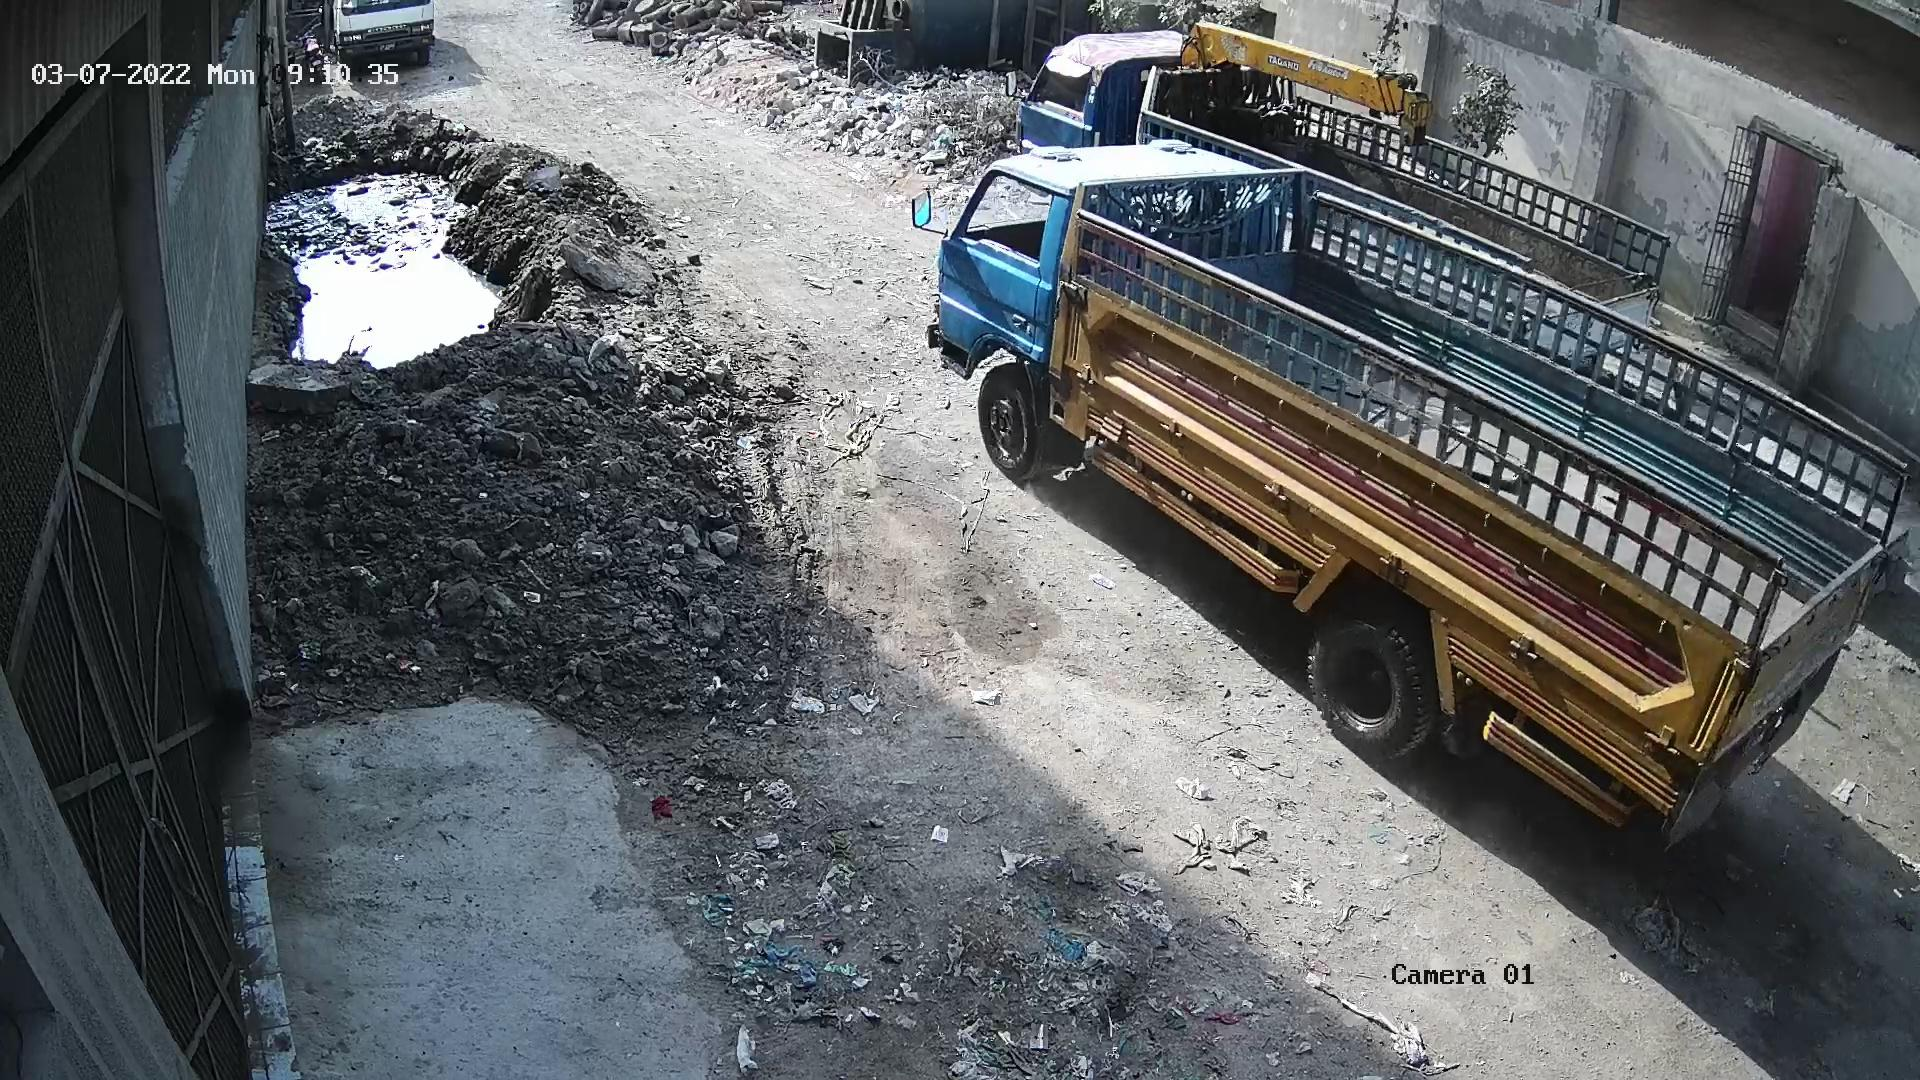bike: (298, 25, 326, 73)
other: (931, 140, 1911, 835), (1015, 25, 1677, 330), (334, 0, 435, 67)
